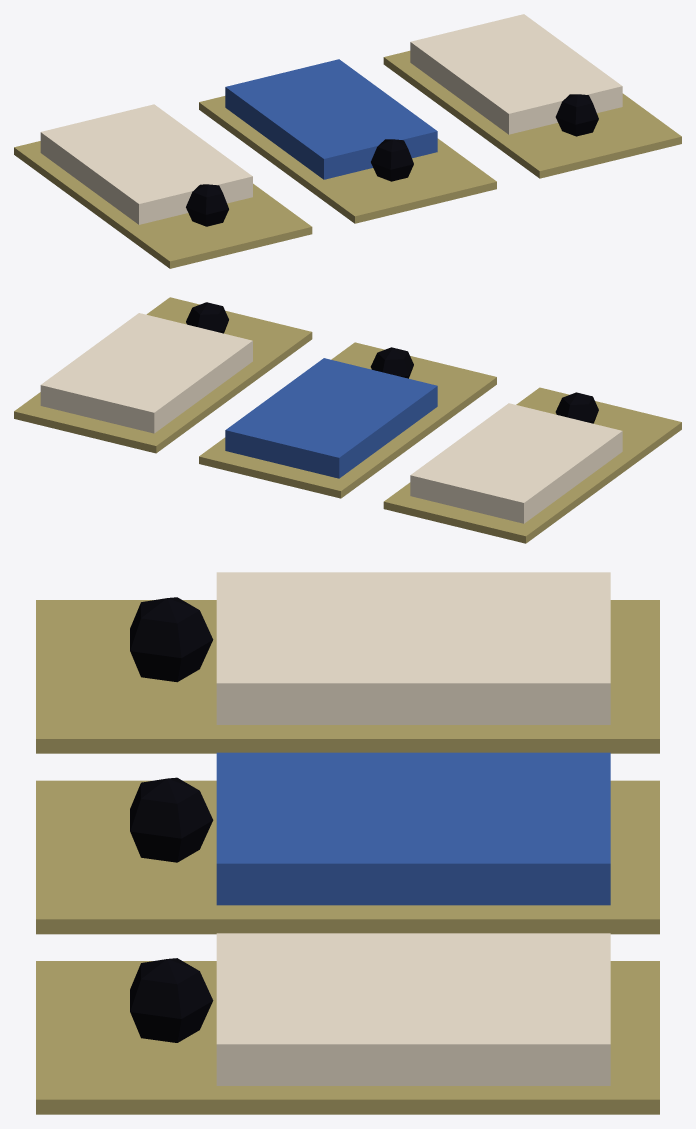
Rendered from prop_sick_mats.glb.
3 views of the same model, one above another, from view 1: azimuth 30°, elevation 25°; view 2: azimuth 150°, elevation 25°; view 3: azimuth 270°, elevation 25° (orthographic). The views are drawn at different scales.
Visible parts, largest first — view 1: prop_sick_mats; view 2: prop_sick_mats; view 3: prop_sick_mats.
Part boxes in pixels (box(x1,y1,x2,y2)): prop_sick_mats: box(14, 14, 681, 268); prop_sick_mats: box(14, 297, 681, 543); prop_sick_mats: box(36, 572, 659, 1114).
Bounding box in the file's own units: 3.6 × 0.29 × 1.9.
